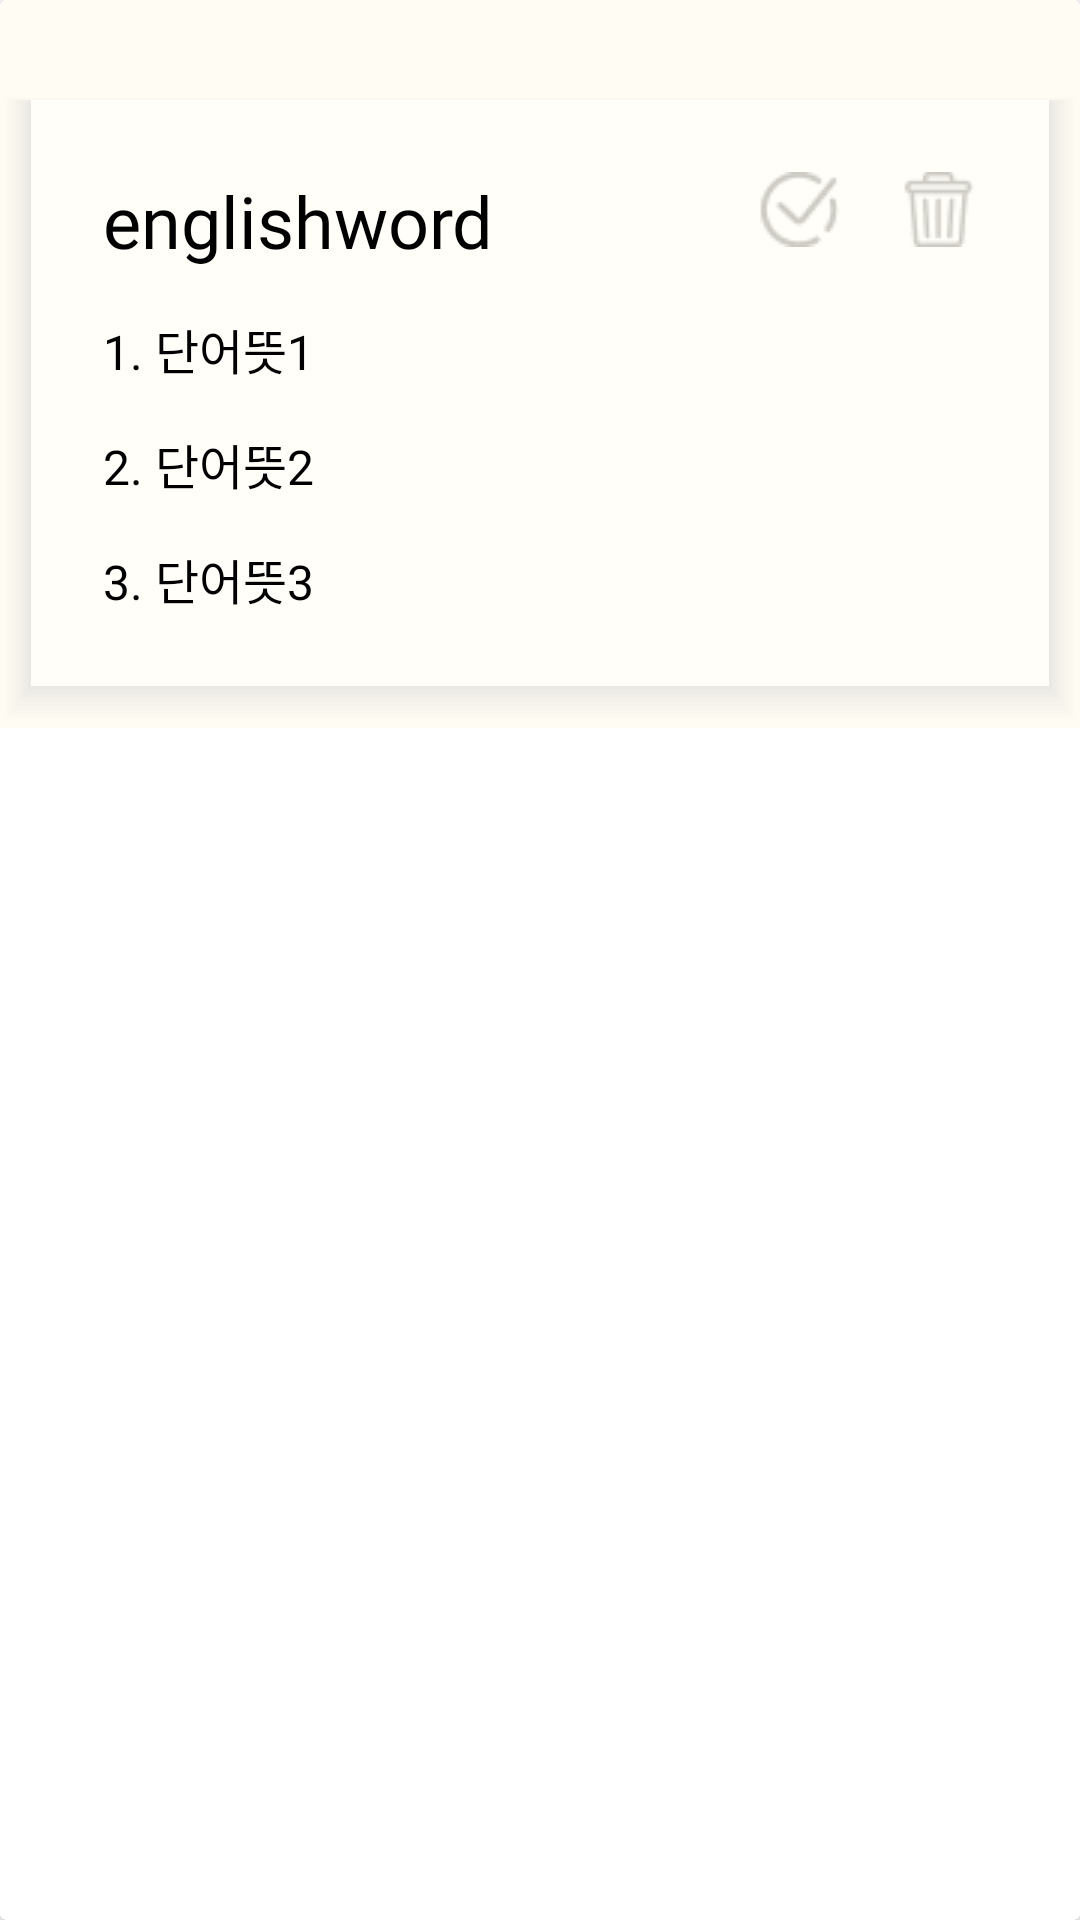

Icons on this 1080 × 1920 Android screen, each with the point to tap as (x=x, y=y):
delete word: (x=938, y=209)
memorization uncheck: (x=799, y=209)
